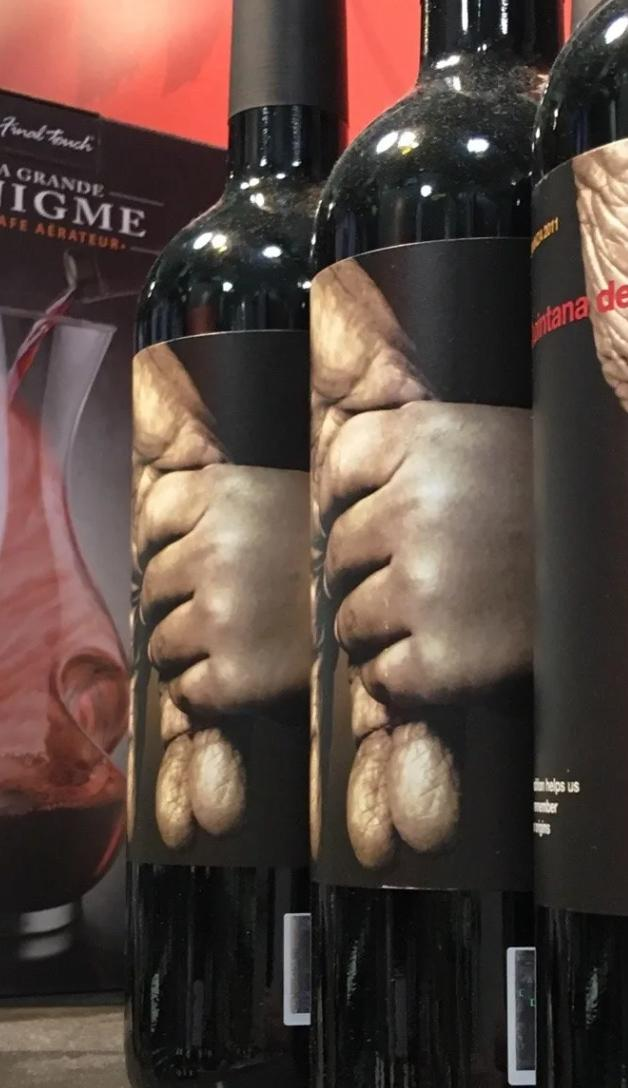wine bottle: (318, 0, 564, 1088), (129, 0, 350, 1087), (530, 0, 628, 1088)
wine label: (311, 236, 533, 891), (126, 331, 313, 868), (529, 137, 628, 918)
